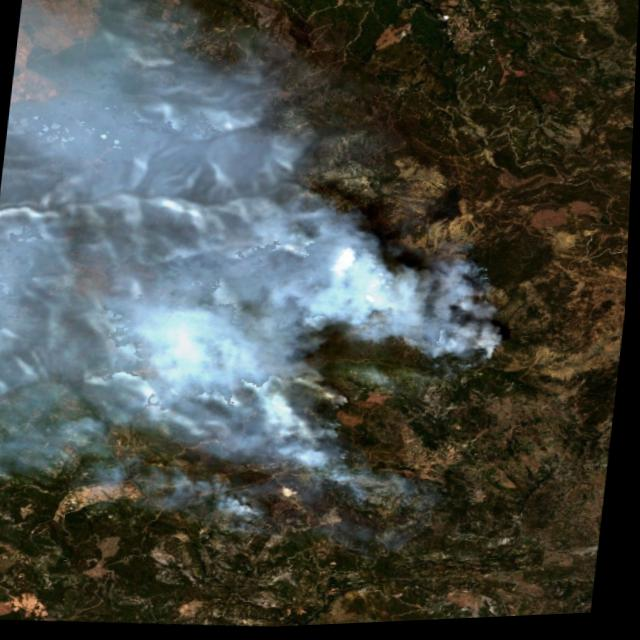fire: (189, 363, 448, 570), (413, 222, 535, 375)
